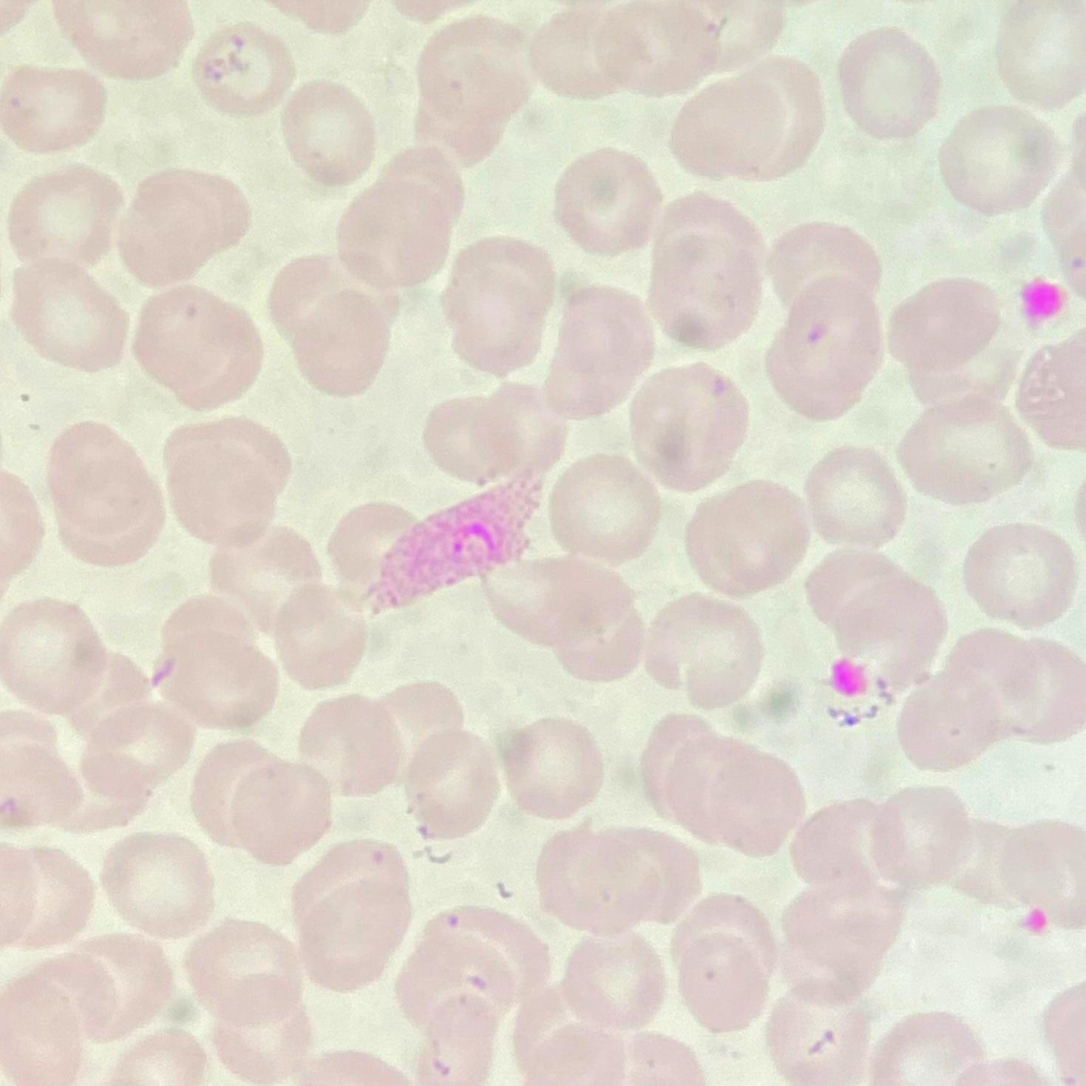Infected: (370, 471, 555, 620)
Uninfected: (642, 715, 804, 856), (803, 549, 944, 701), (398, 905, 541, 1048), (41, 416, 169, 569), (647, 194, 772, 350), (336, 152, 469, 294), (265, 258, 398, 400), (671, 61, 822, 186), (289, 839, 413, 989), (152, 595, 285, 732), (536, 820, 694, 935), (411, 17, 535, 162), (160, 417, 292, 553), (764, 274, 885, 419), (945, 628, 1083, 754), (132, 282, 264, 410), (115, 166, 249, 287), (776, 881, 905, 1003), (442, 239, 558, 374), (626, 362, 748, 488), (888, 275, 1009, 401), (71, 699, 192, 825), (684, 480, 810, 600), (936, 102, 1066, 217), (10, 254, 132, 376), (642, 594, 767, 713), (424, 384, 563, 491), (540, 286, 653, 417), (669, 895, 779, 1029), (185, 920, 308, 1039), (5, 947, 126, 1065), (897, 401, 1031, 506), (3, 597, 115, 719), (971, 815, 1086, 930), (481, 554, 632, 641), (589, 1, 724, 97), (543, 453, 659, 564), (7, 166, 123, 274), (206, 526, 323, 632), (960, 522, 1076, 628), (296, 693, 409, 801), (861, 784, 974, 892), (98, 832, 211, 939), (552, 148, 663, 256), (401, 725, 504, 841), (512, 983, 628, 1086), (552, 931, 671, 1031), (65, 931, 177, 1034), (840, 23, 936, 141), (897, 669, 1005, 773), (500, 716, 605, 821), (55, 1, 188, 81), (802, 445, 906, 546), (765, 219, 880, 310), (271, 583, 367, 692), (791, 798, 900, 893), (766, 989, 876, 1082), (1, 838, 93, 948), (191, 21, 295, 118), (993, 0, 1086, 108), (209, 982, 306, 1085), (2, 727, 92, 837), (222, 765, 320, 863), (1, 64, 106, 155), (279, 81, 374, 181), (190, 739, 279, 840), (552, 580, 644, 677), (869, 1011, 986, 1085), (528, 10, 625, 99), (1014, 327, 1085, 448), (327, 501, 418, 594), (684, 0, 789, 76), (376, 680, 464, 761), (287, 1047, 417, 1086)
